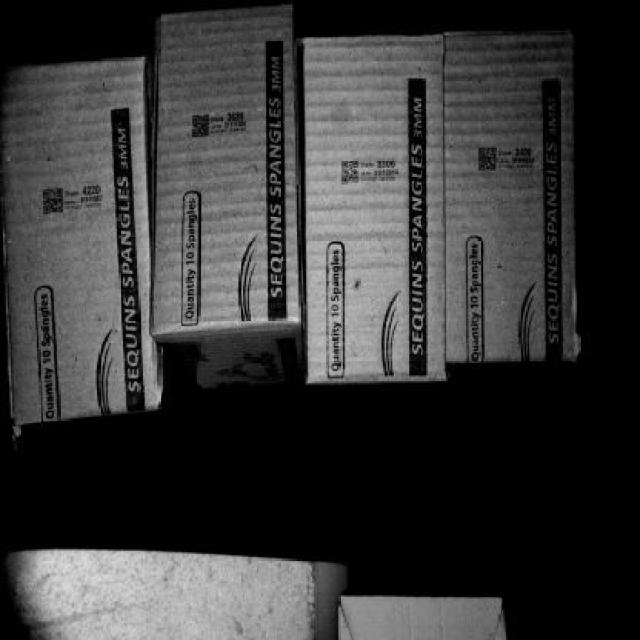cardboxes: (3, 68, 159, 410), (446, 29, 583, 369), (309, 43, 448, 374), (160, 14, 298, 328)
